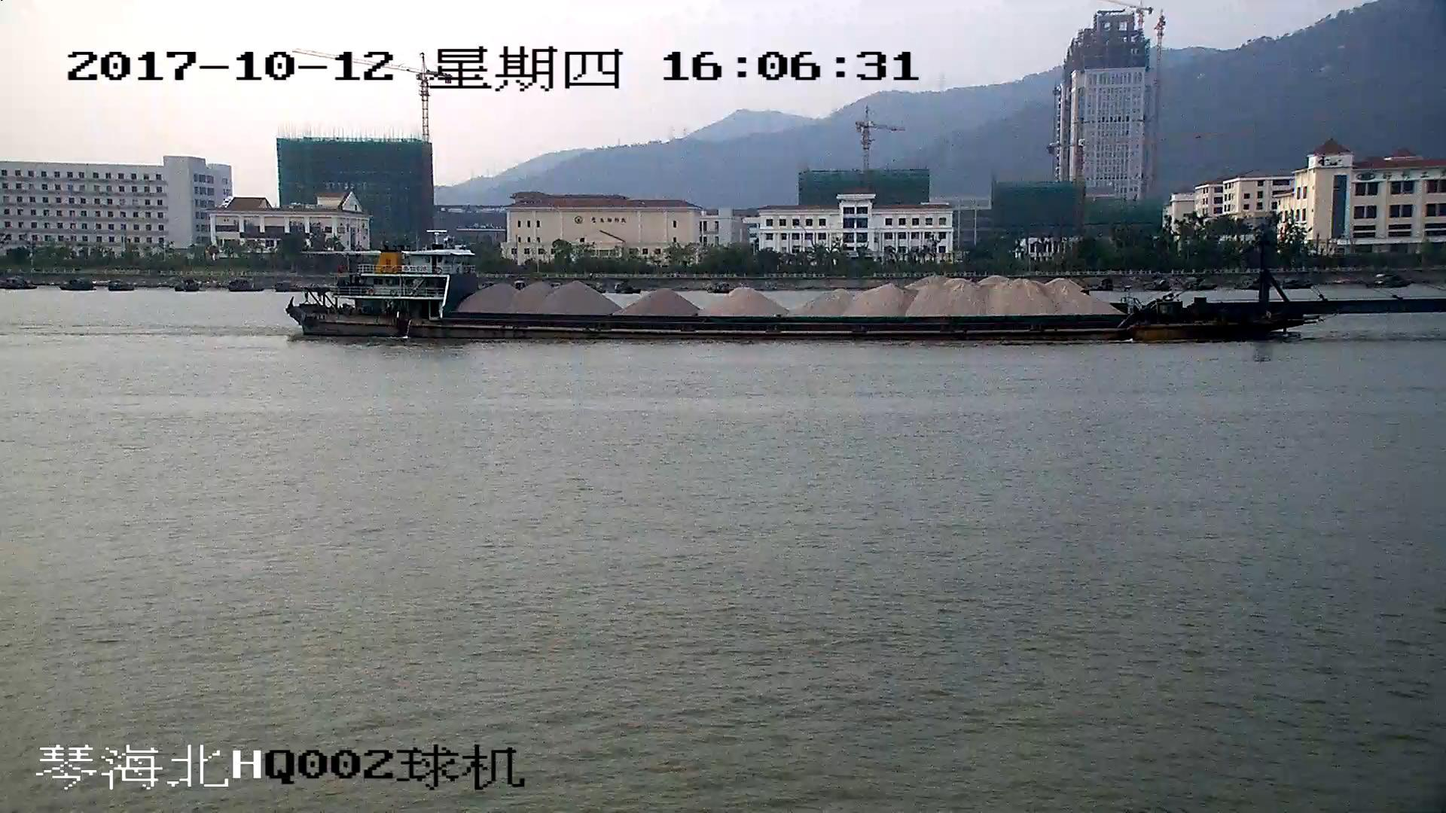ore carrier: (288, 230, 1445, 345)
